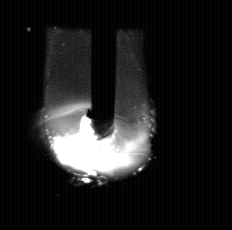arame: (88, 0, 116, 140)
poca: (51, 0, 151, 230)
